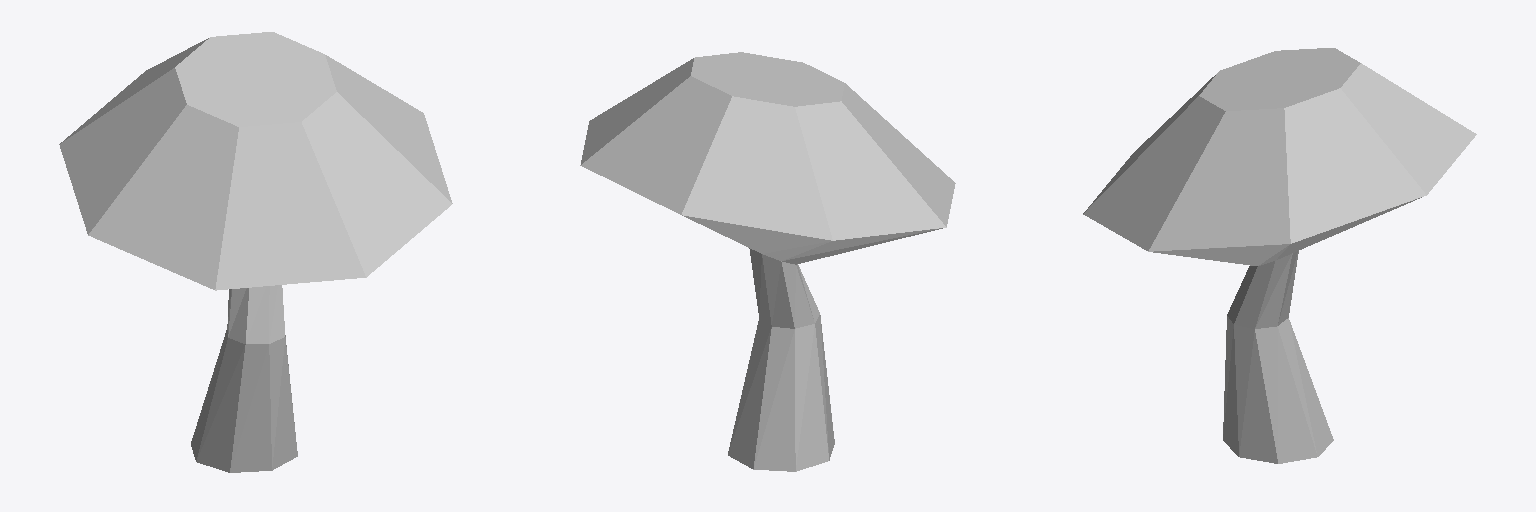
Rendered from Mushroom_01.obj.
3 views of the same model, side by side, from view 1: azimuth 30°, elevation 25°; view 2: azimuth 150°, elevation 25°; view 3: azimuth 270°, elevation 25° (orthographic).
Visible parts, largest first — view 1: Mushrooms:pCylinder1 group2; view 2: Mushrooms:pCylinder1 group2; view 3: Mushrooms:pCylinder1 group2.
Boxes of the visible parts, x1=… form: Mushrooms:pCylinder1 group2: x1=59, y1=32, x2=452, y2=472; Mushrooms:pCylinder1 group2: x1=580, y1=52, x2=955, y2=471; Mushrooms:pCylinder1 group2: x1=1083, y1=48, x2=1476, y2=463.
Bounding box in the file's own units: 1.91 × 2 × 1.88.